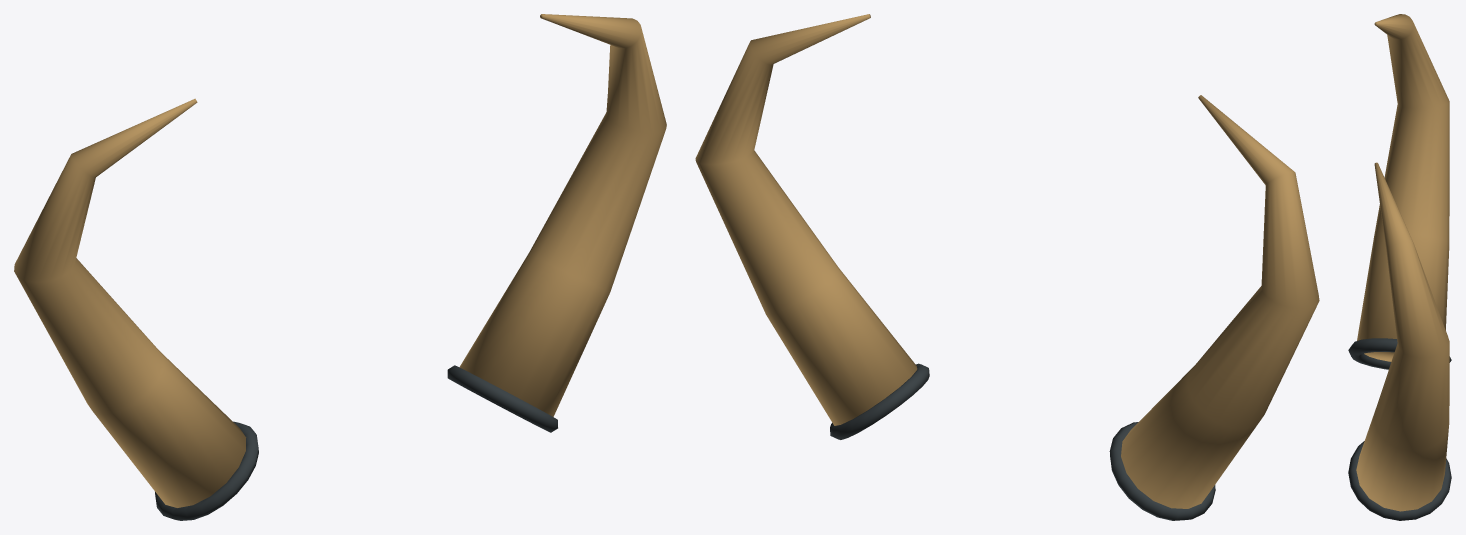
The model's file is curled-horns.glb.
3 renders of one model, left to right at view 1: azimuth 30°, elevation 25°; view 2: azimuth 150°, elevation 25°; view 3: azimuth 270°, elevation 25°, orthographic. The views are drawn at different scales.
Parts seen in each view (by area): view 1: curled-horns; view 2: curled-horns; view 3: curled-horns.
Part boxes in pixels (x1=…): curled-horns: x1=14, y1=14, x2=666, y2=520; curled-horns: x1=695, y1=14, x2=1319, y2=520; curled-horns: x1=1348, y1=14, x2=1451, y2=520.
Size of the model in its own units: 26.15 by 16.51 by 4.38.
